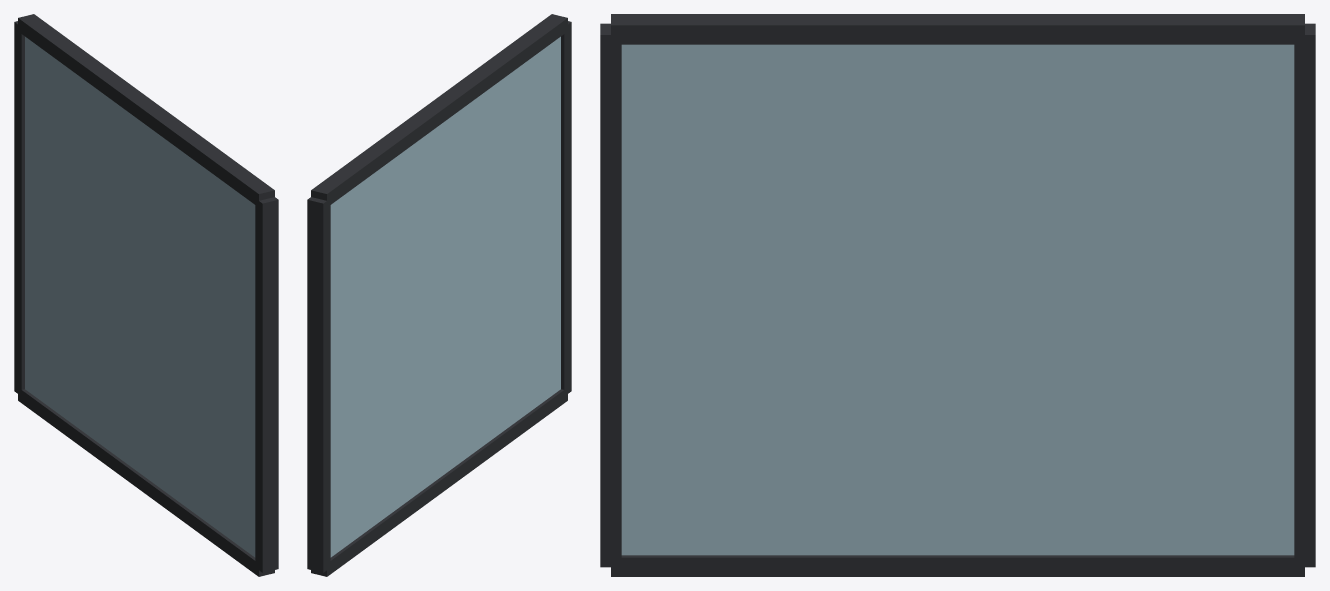
File: window-pane.glb
3 views of the same model, side by side, from view 1: azimuth 30°, elevation 25°; view 2: azimuth 150°, elevation 25°; view 3: azimuth 270°, elevation 25° (orthographic). The views are drawn at different scales.
Visible parts, largest first — view 1: #a8c4d0 rough 0.1 alpha 0.22_noshadow, #34363a metal 0.5 rough 0.5_noshadow; view 2: #a8c4d0 rough 0.1 alpha 0.22_noshadow, #34363a metal 0.5 rough 0.5_noshadow; view 3: #a8c4d0 rough 0.1 alpha 0.22_noshadow, #34363a metal 0.5 rough 0.5_noshadow.
Boxes of the visible parts, <box> form: #a8c4d0 rough 0.1 alpha 0.22_noshadow: <box>25,36,255,557</box>; #34363a metal 0.5 rough 0.5_noshadow: <box>14,14,278,576</box>; #a8c4d0 rough 0.1 alpha 0.22_noshadow: <box>330,36,560,557</box>; #34363a metal 0.5 rough 0.5_noshadow: <box>307,14,571,576</box>; #a8c4d0 rough 0.1 alpha 0.22_noshadow: <box>621,44,1294,555</box>; #34363a metal 0.5 rough 0.5_noshadow: <box>600,14,1315,576</box>.
Bounding box in the file's own units: 0.05 × 1.14 × 1.34.
